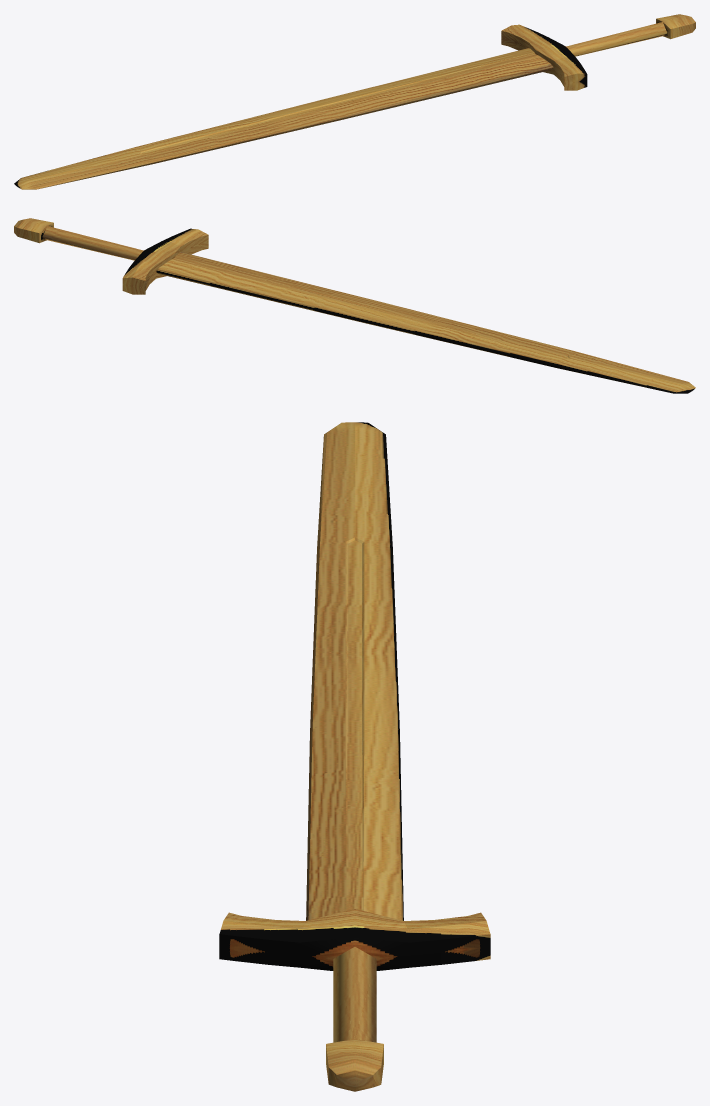
File: Wooden Sword.FBX
3 renders of one model, top to bottom at view 1: azimuth 30°, elevation 25°; view 2: azimuth 150°, elevation 25°; view 3: azimuth 270°, elevation 25°, orthographic. The views are drawn at different scales.
Parts seen in each view (by area): view 1: Wooden Sword; view 2: Wooden Sword; view 3: Wooden Sword.
Boxes of the visible parts, x1,y1,x2,y2 form: Wooden Sword: [14, 14, 695, 189]; Wooden Sword: [14, 218, 695, 393]; Wooden Sword: [219, 422, 490, 1091].
Size of the model in its own units: 159 by 4.59 by 27.58.
1 material, 1 textured.
